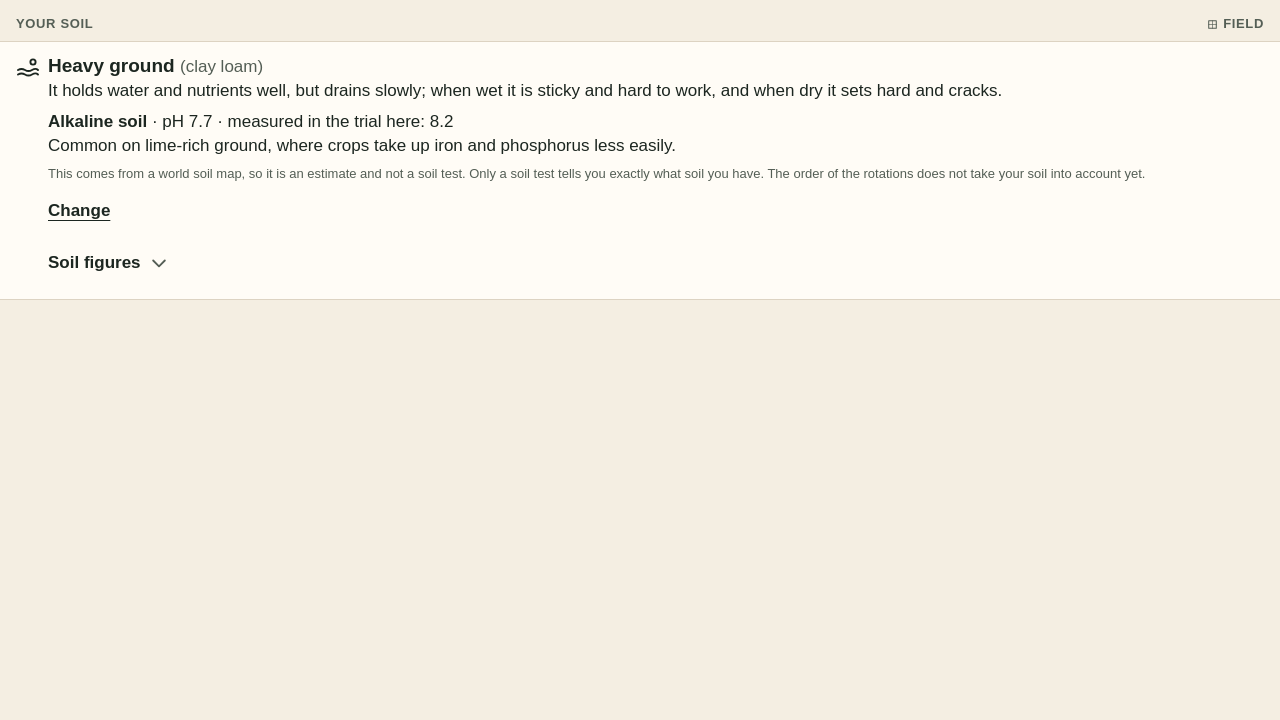
the soil card › opens the figures on a tap, each with its range and a source
This screenshot has width=1280, height=720.
Click the button with test id "soil-figures".
click(108, 263)  # box [48, 239, 169, 287]
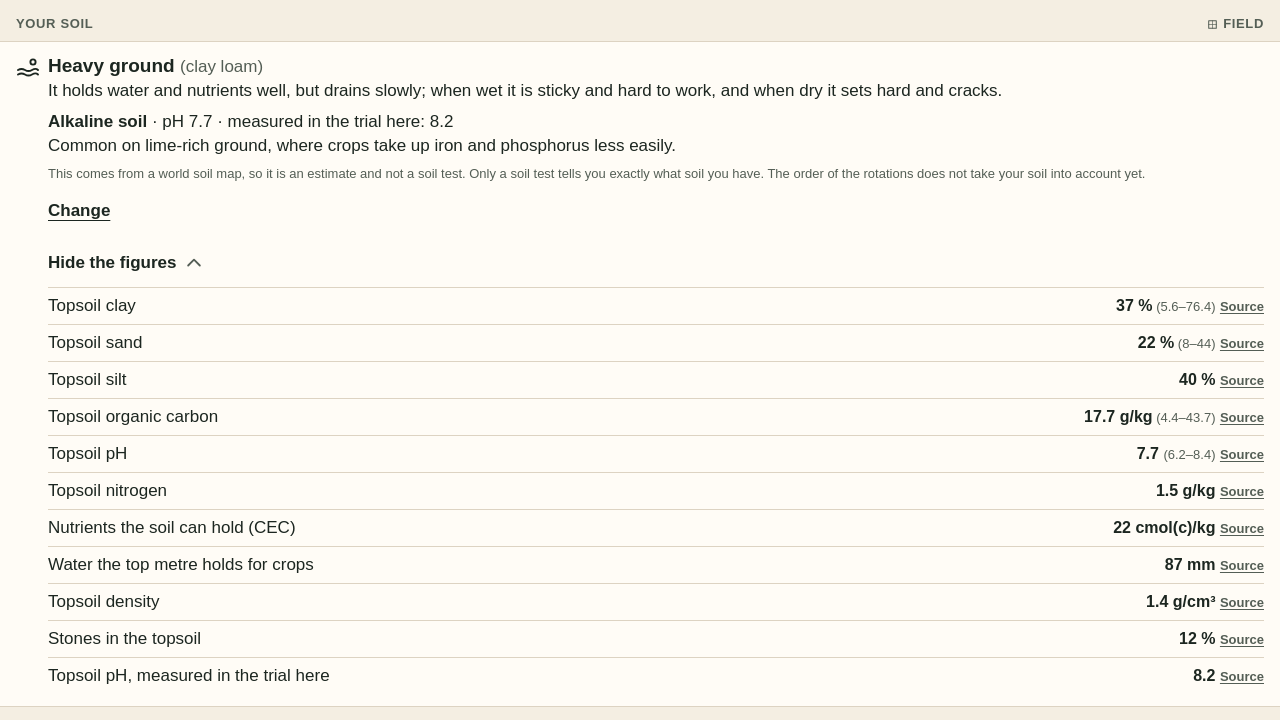
Expected: the list with test id "soil-list" shows "Topsoil clay", [48, 296, 136, 315]
Expected: the list with test id "soil-list" shows "37 %", [16, 287, 1264, 694]
Expected: the list with test id "soil-list" shows "(5.6–76.4)", [1160, 299, 1211, 314]
